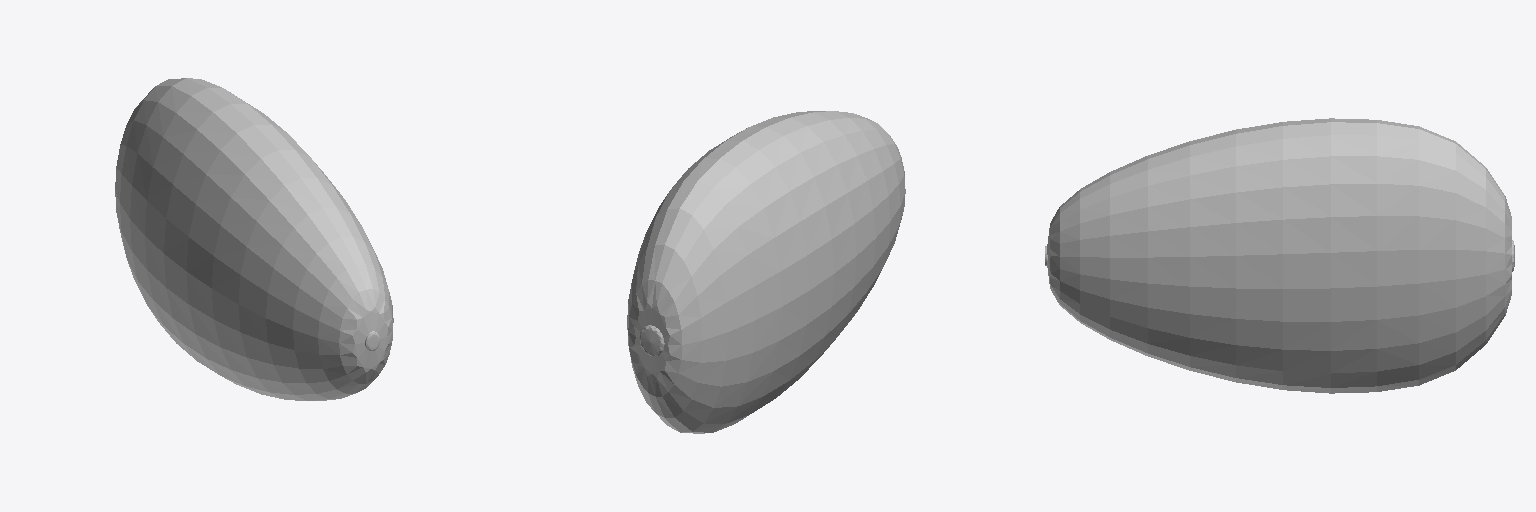
File: seed.obj
3 views of the same model, side by side, from view 1: azimuth 30°, elevation 25°; view 2: azimuth 150°, elevation 25°; view 3: azimuth 270°, elevation 25° (orthographic).
Parts seen in each view (by area): view 1: Sunflower_Seed_Sphere.001; view 2: Sunflower_Seed_Sphere.001; view 3: Sunflower_Seed_Sphere.001.
Boxes of the visible parts, x1,y1,x2,y2 form: Sunflower_Seed_Sphere.001: [115, 78, 393, 400]; Sunflower_Seed_Sphere.001: [627, 111, 905, 433]; Sunflower_Seed_Sphere.001: [1045, 118, 1514, 393].
Size of the model in its own units: 0.965 by 1.82 by 2.9.